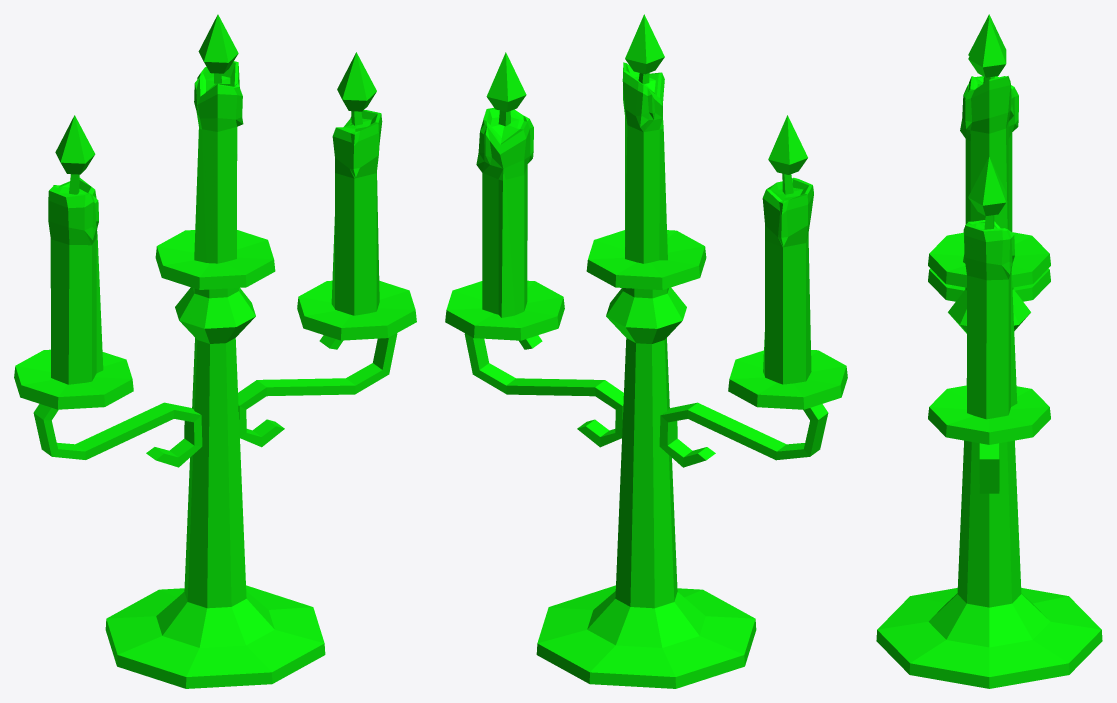
File: SM_Candle_Table_B_Lit_Fantasy.fbx
3 views of the same model, side by side, from view 1: azimuth 30°, elevation 25°; view 2: azimuth 150°, elevation 25°; view 3: azimuth 270°, elevation 25° (orthographic).
Parts seen in each view (by area): view 1: candle-table-b-lit-fantasy; view 2: candle-table-b-lit-fantasy; view 3: candle-table-b-lit-fantasy.
Part boxes in pixels (left/top/right/bottom): candle-table-b-lit-fantasy: left=14, top=14, right=416, bottom=688; candle-table-b-lit-fantasy: left=445, top=14, right=847, bottom=688; candle-table-b-lit-fantasy: left=876, top=14, right=1102, bottom=688.
Bounding box in the file's own units: 0.3291 × 0.5061 × 0.166.
